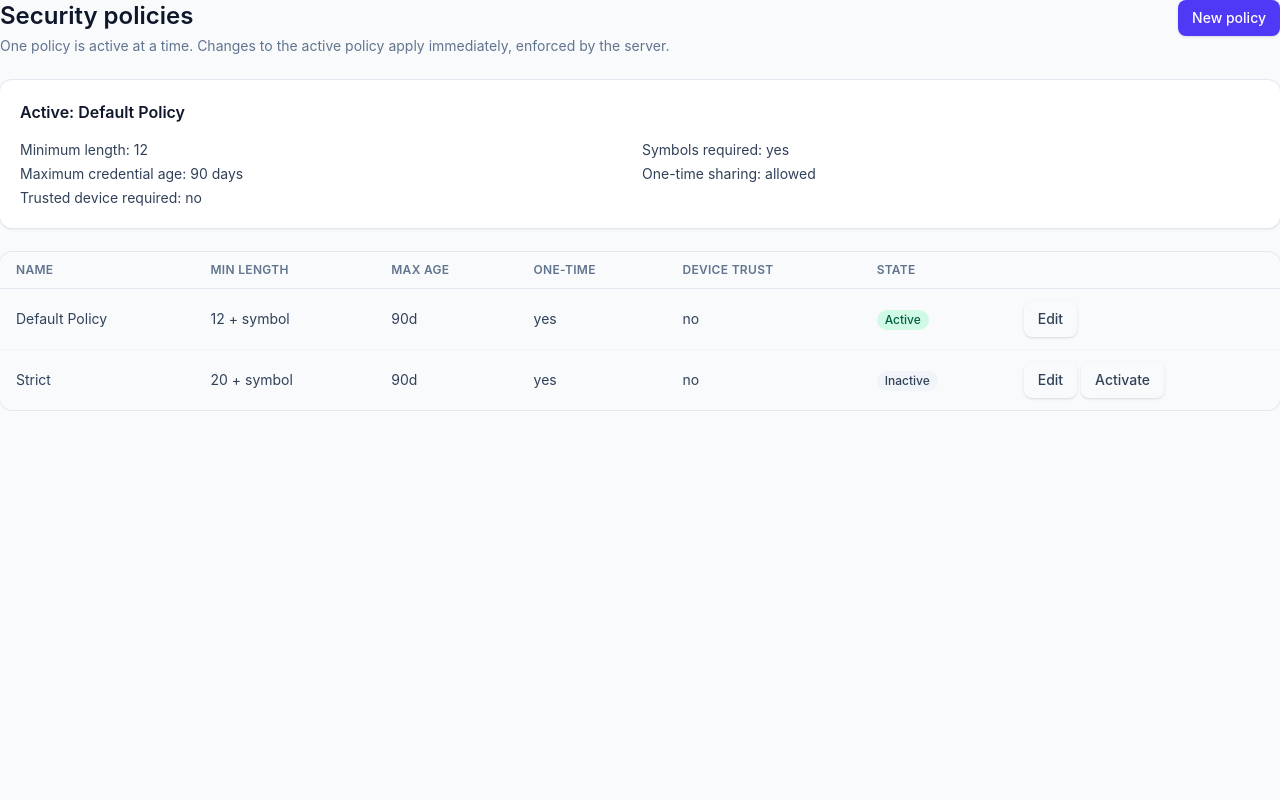
Test: policies: warns that device trust currently blocks reveals, and activation is explicit
The image size is (1280, 800).
Expected: the text "Strict" is shown, [0,350,194,410]
Click the button with aria-label "Activate Strict". click: (1123, 380)
box: [1081,362,1164,398]
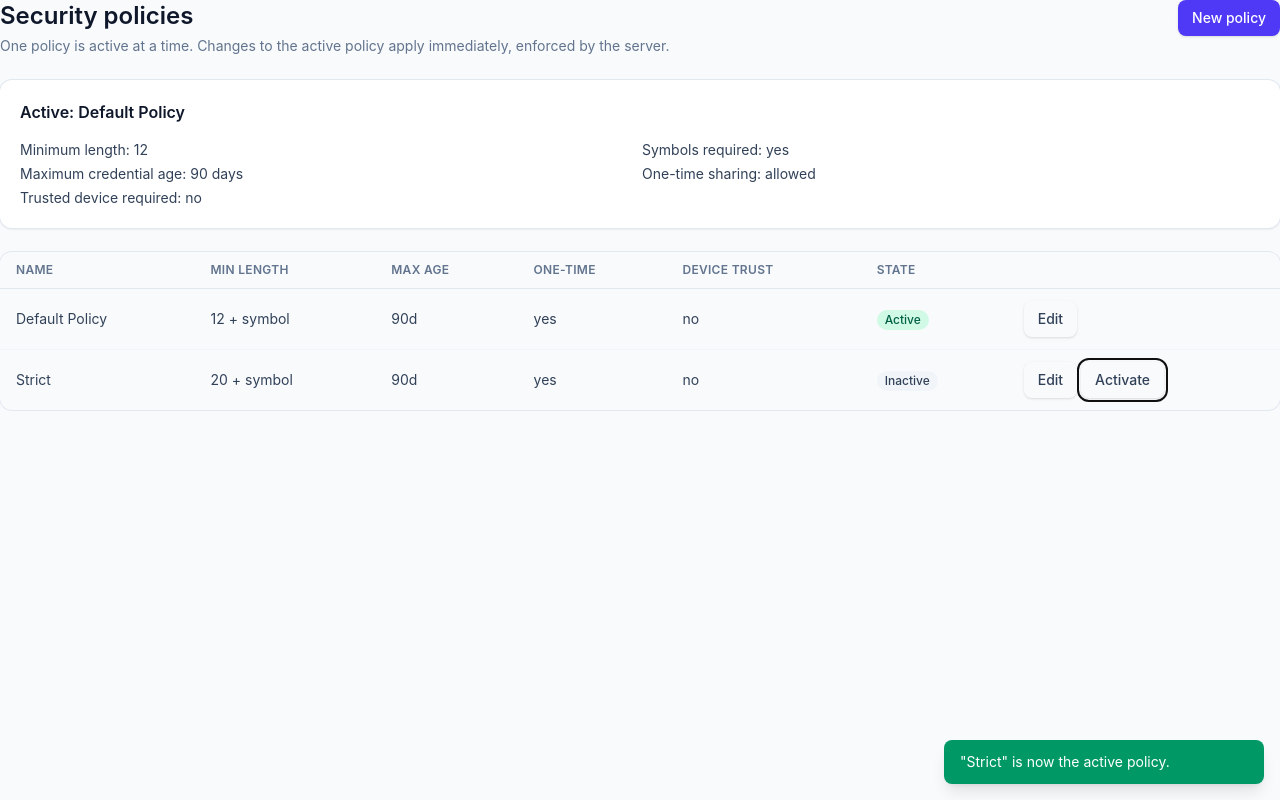
Click the button "New policy". click: (1229, 18)
box: [1178,0,1279,36]
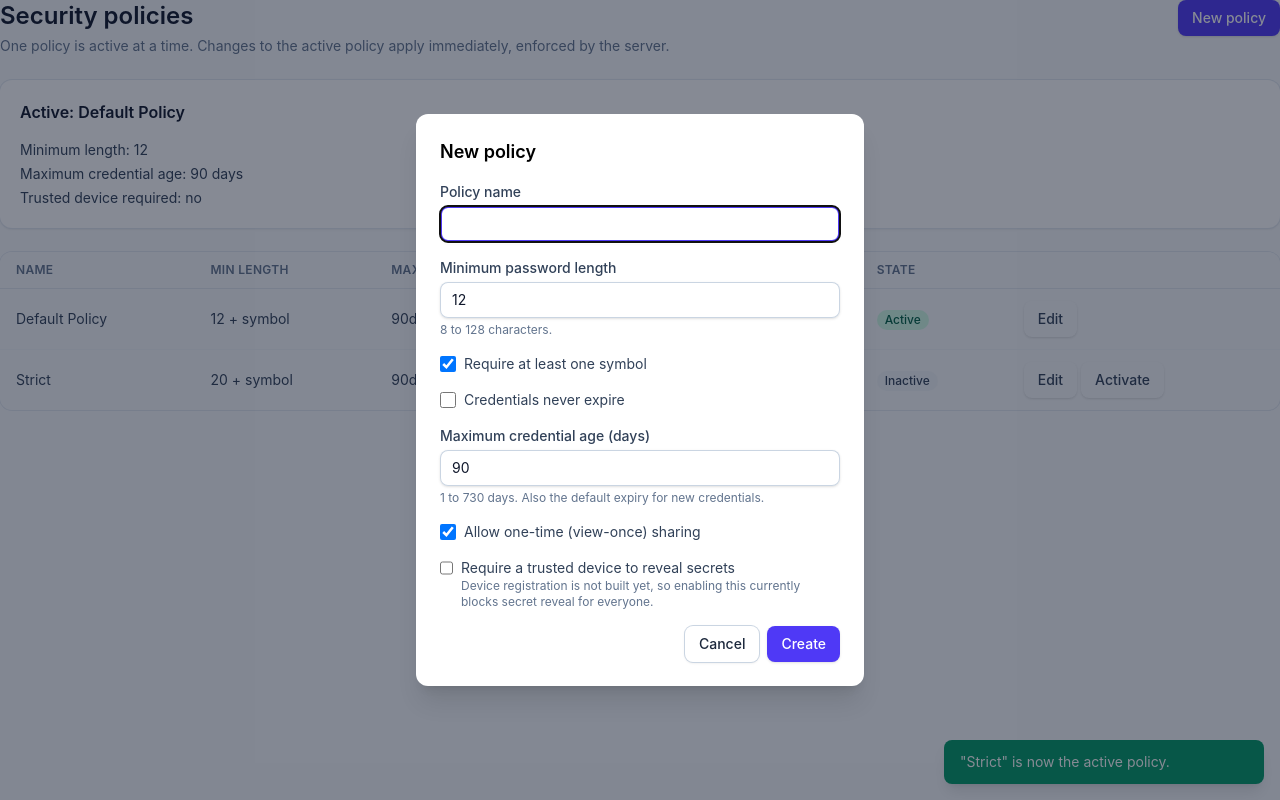
Result: the text "currently blocks secret reveal for everyone" is shown at [461,578,800,609]
